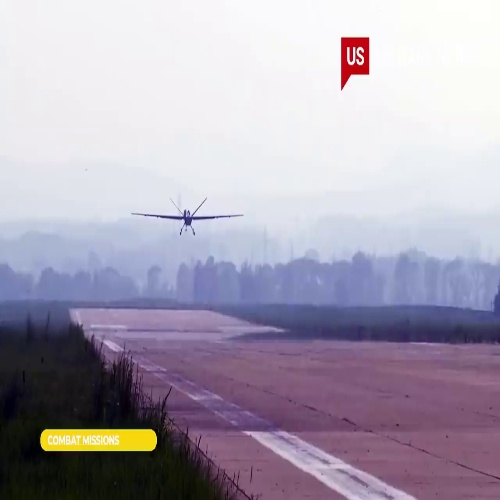uav21: (132, 196, 246, 237)
